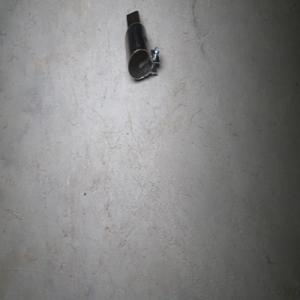MetalPart: (124, 9, 160, 80)
